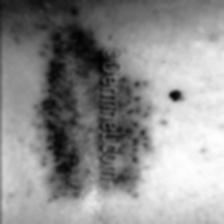Toxin: (50, 31, 90, 62), (150, 88, 184, 114)
